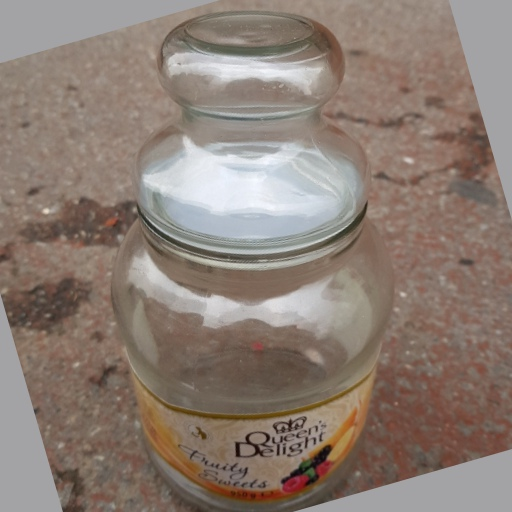Glass_5: (107, 16, 393, 500)
